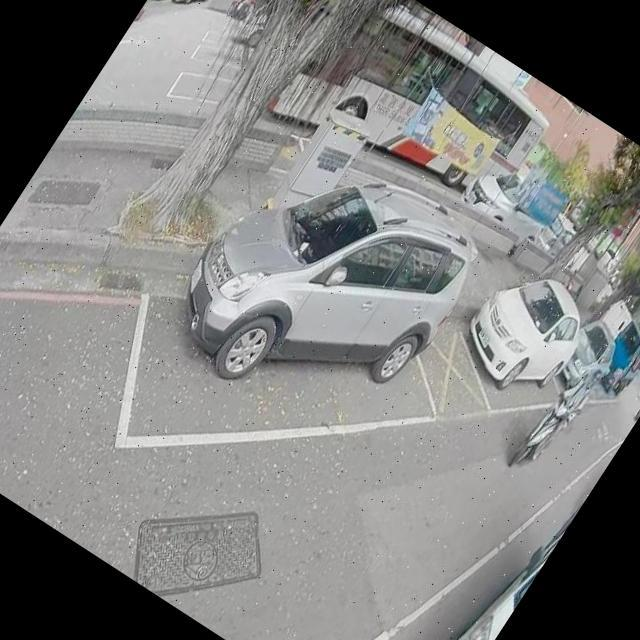person: (518, 357, 605, 469), (229, 0, 264, 21)
